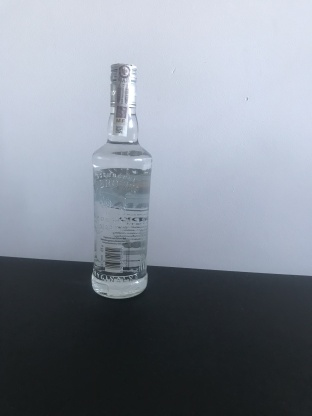nakretka: (107, 59, 139, 111)
